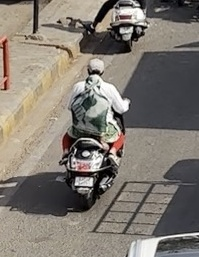BikeWithRider: (55, 55, 133, 211)
NoHelmet: (83, 57, 108, 84), (79, 74, 108, 96)
